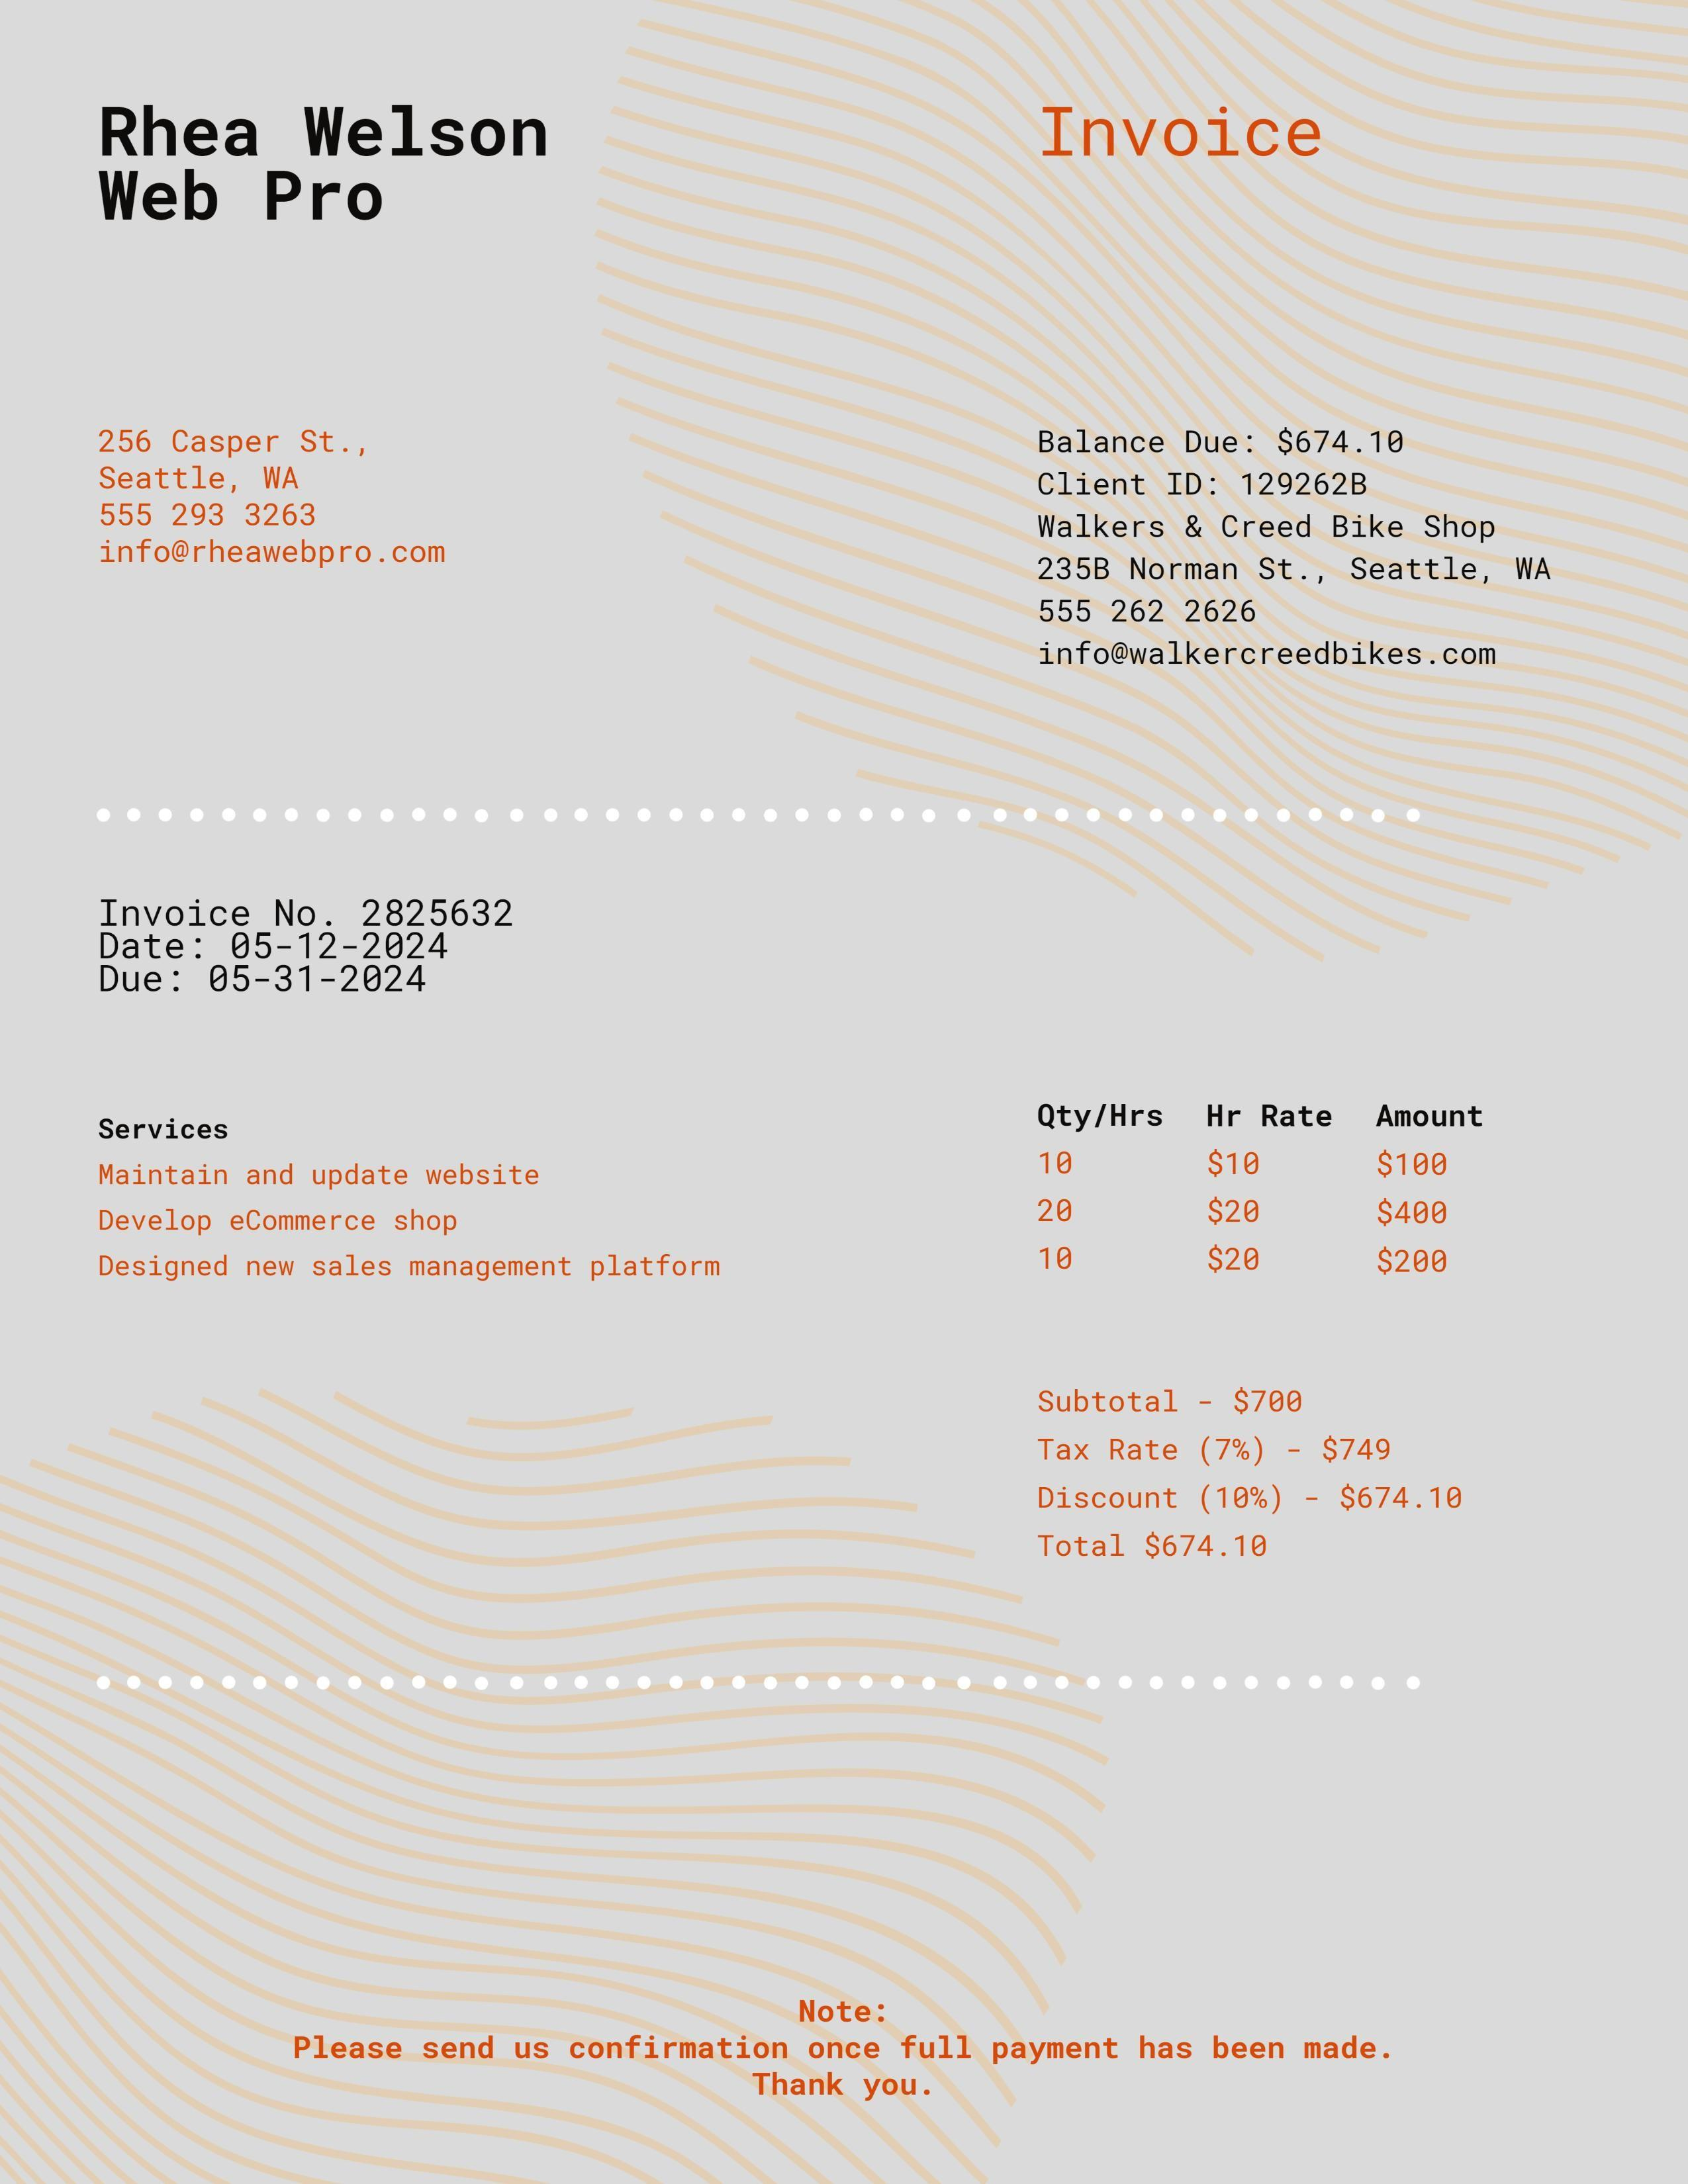ROI: (30, 69, 704, 585), (57, 1099, 1491, 1306), (1023, 417, 1559, 682), (270, 2024, 1433, 2108), (1034, 1376, 1479, 1569), (89, 890, 534, 1016)
